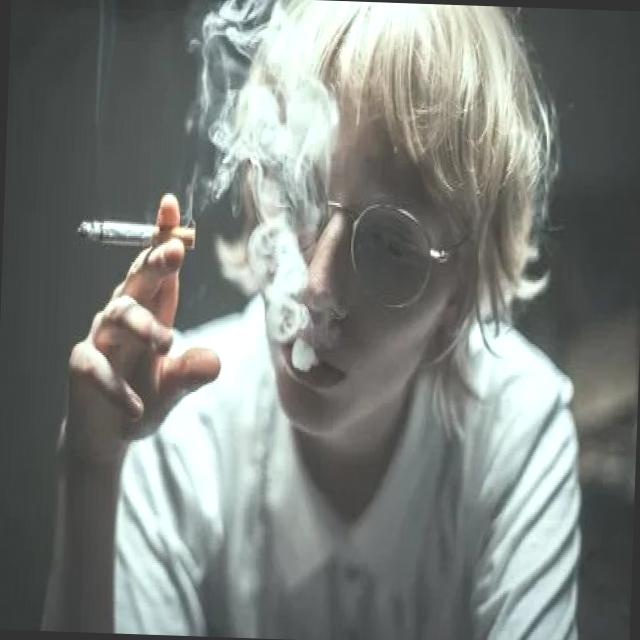cigarette: (76, 212, 200, 256)
